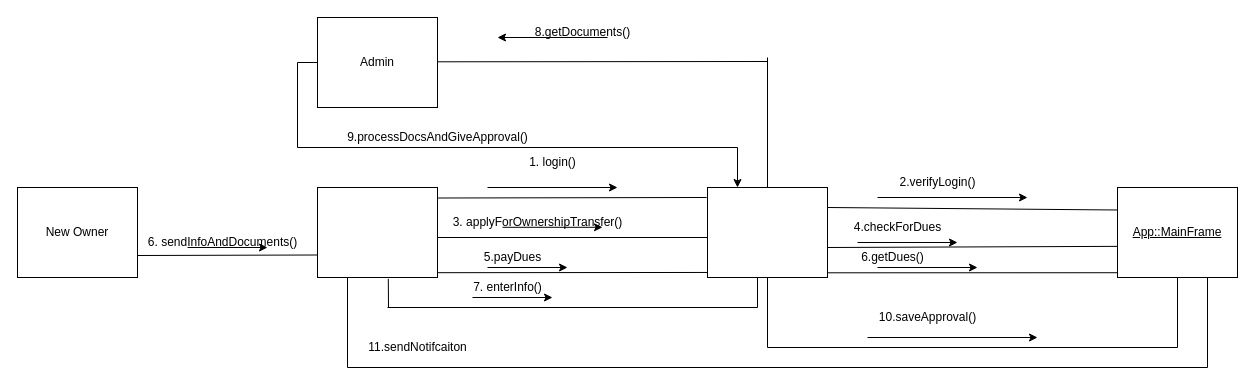
Some shapes in this 1255 by 386 pixel diagram are drawn without their labels. The box of each missing label's shape, as (x1, y1, x2, y2) in pixels:
App::Server: (706, 186, 828, 278)
Existing Owner: (316, 186, 438, 278)
